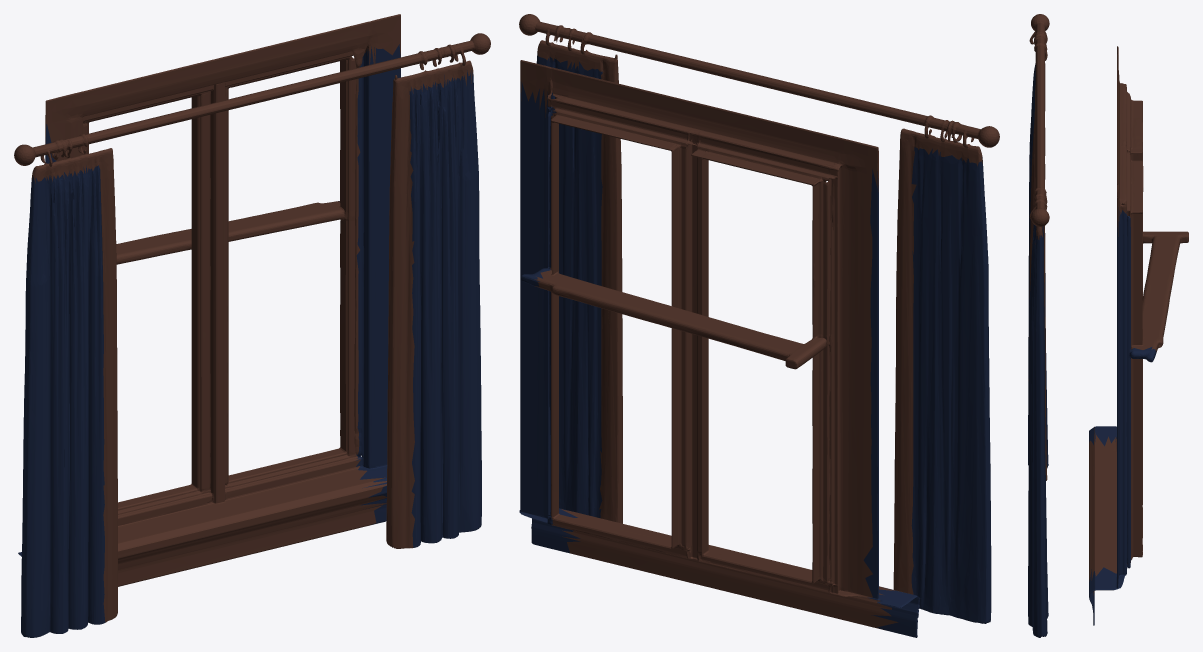
File: window_semantic.glb
The picture shows the model from 3 angles, left to right: view 1: azimuth 30°, elevation 25°; view 2: azimuth 150°, elevation 25°; view 3: azimuth 270°, elevation 25°; orthographic projection. The views are drawn at different scales.
Parts seen in each view (by area): view 1: RoomOne_Window; view 2: RoomOne_Window; view 3: RoomOne_Window.
Boxes of the visible parts, bbox=[...] form: RoomOne_Window: bbox=[14, 14, 490, 637]; RoomOne_Window: bbox=[519, 14, 999, 637]; RoomOne_Window: bbox=[1028, 14, 1188, 637].
Bounding box in the file's own units: 1.46 × 1.45 × 0.4901.
